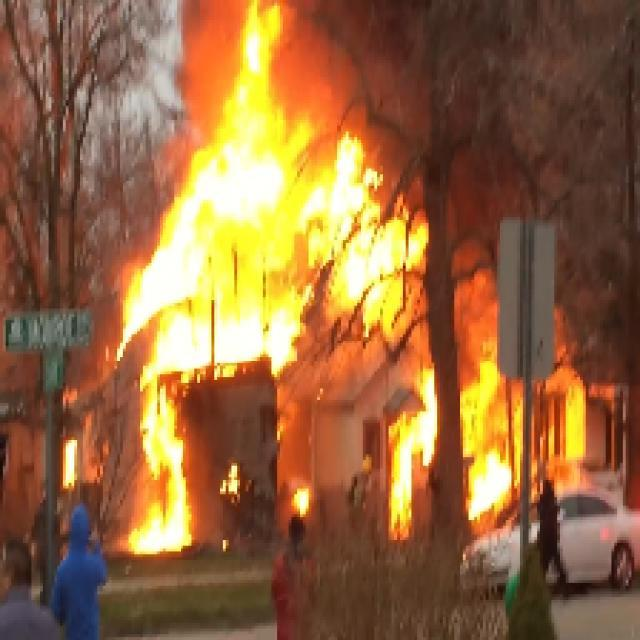Fire: (120, 20, 584, 536)
